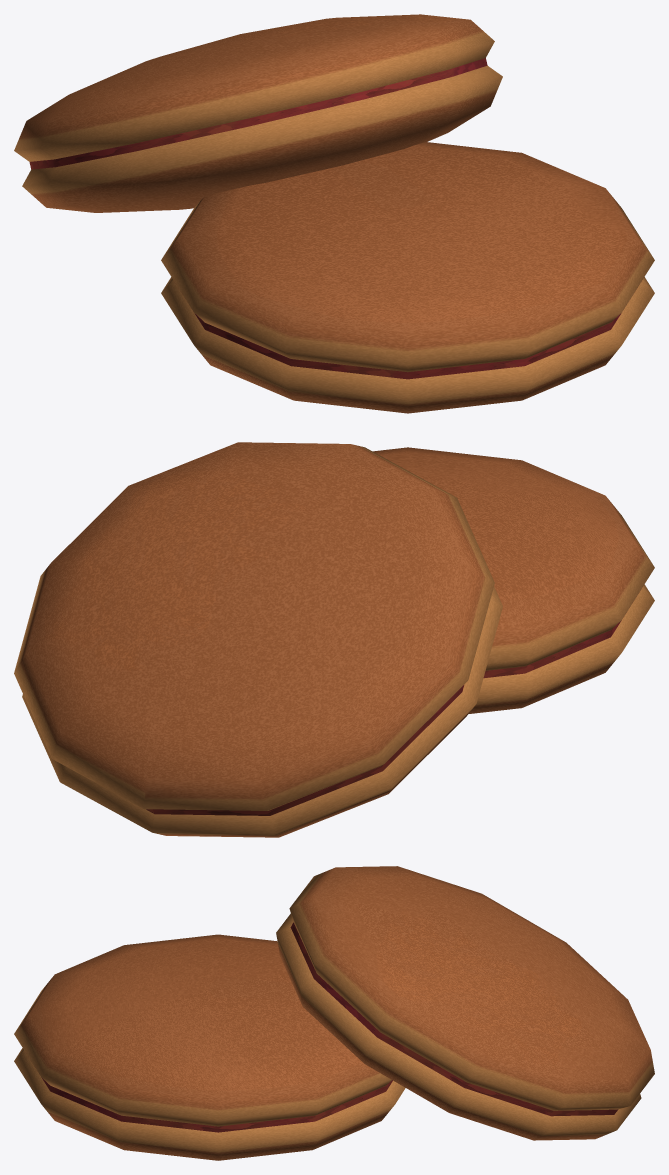
The model's file is dorayaki.fbx.
3 renders of one model, top to bottom at view 1: azimuth 30°, elevation 25°; view 2: azimuth 150°, elevation 25°; view 3: azimuth 270°, elevation 25°, orthographic. The views are drawn at different scales.
Visible parts, largest first — view 1: Dorayakis; view 2: Dorayakis; view 3: Dorayakis.
Part boxes in pixels (x1=…): Dorayakis: x1=14, y1=14, x2=654, y2=413; Dorayakis: x1=14, y1=442, x2=654, y2=837; Dorayakis: x1=14, y1=866, x2=654, y2=1160.
Bounding box in the file's own units: 200 × 115 × 314.
